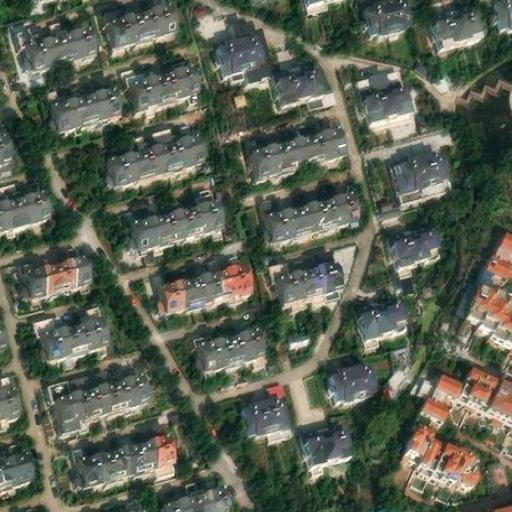building: (56, 367, 153, 425), (104, 127, 209, 178), (159, 254, 254, 307), (131, 191, 226, 242), (403, 420, 483, 480), (250, 119, 346, 167), (80, 430, 175, 477), (265, 183, 357, 230), (434, 355, 512, 410), (25, 17, 100, 60), (130, 57, 201, 102), (20, 249, 92, 292), (38, 309, 110, 352), (272, 253, 341, 296), (197, 321, 266, 364), (51, 81, 123, 122), (109, 0, 179, 38), (467, 280, 512, 334), (239, 388, 291, 433), (392, 144, 450, 184), (274, 58, 330, 98), (356, 85, 410, 125), (220, 26, 271, 68), (303, 426, 354, 467), (356, 296, 408, 335), (163, 482, 229, 512), (332, 354, 379, 395), (0, 185, 49, 224), (392, 223, 444, 259), (436, 3, 484, 40), (483, 220, 512, 280), (366, 0, 415, 29), (0, 445, 35, 480), (351, 70, 396, 97), (419, 390, 451, 419), (0, 375, 22, 413), (283, 330, 310, 350), (98, 501, 146, 512), (0, 125, 13, 153), (498, 0, 512, 21)
